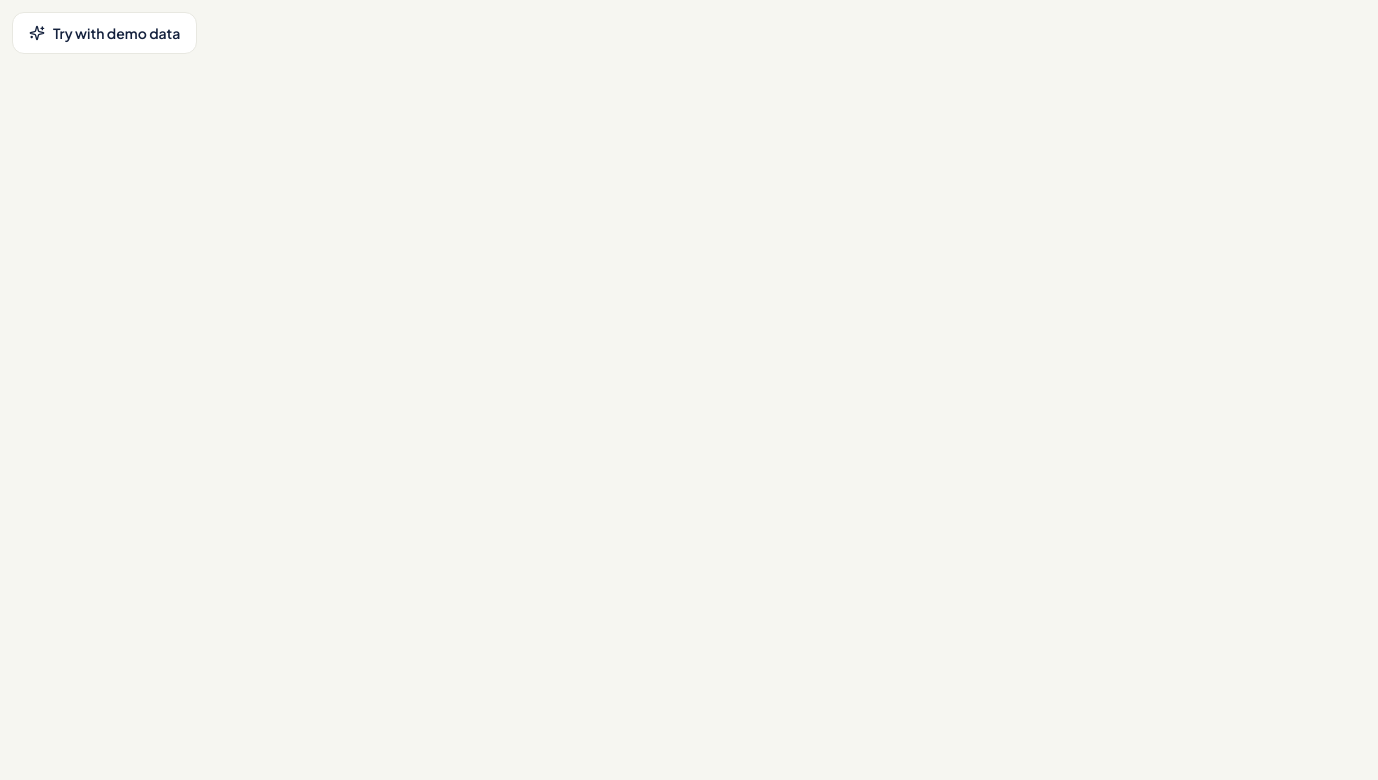
it: DemoDataButton › shows the reason on failure and can be tried again
This screenshot has width=1378, height=780.
Click the button "Try with demo data" at (105, 33), box [12, 12, 197, 54]
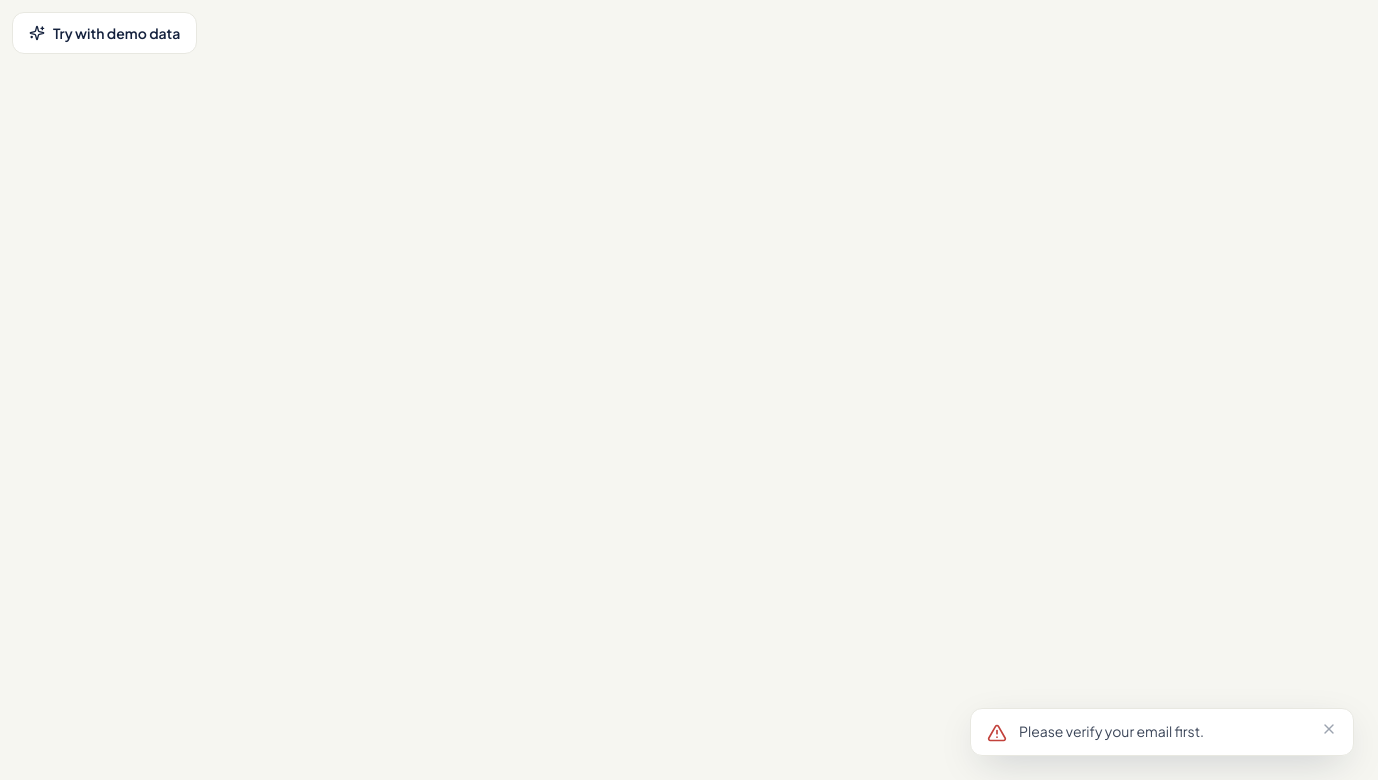
Now the text "Please verify your email first." is shown, box [1019, 722, 1204, 740]
